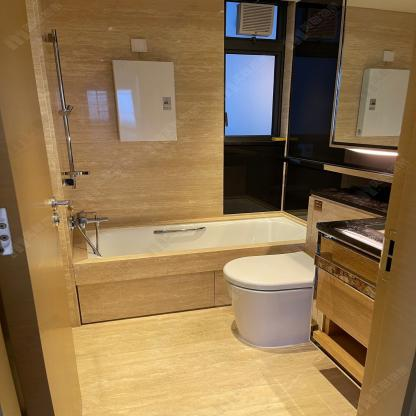Bathtub: (73, 211, 308, 325)
Exhaust Fan: (237, 2, 275, 36)
Toilet: (220, 251, 315, 347)
Water Heater: (113, 60, 177, 142)
